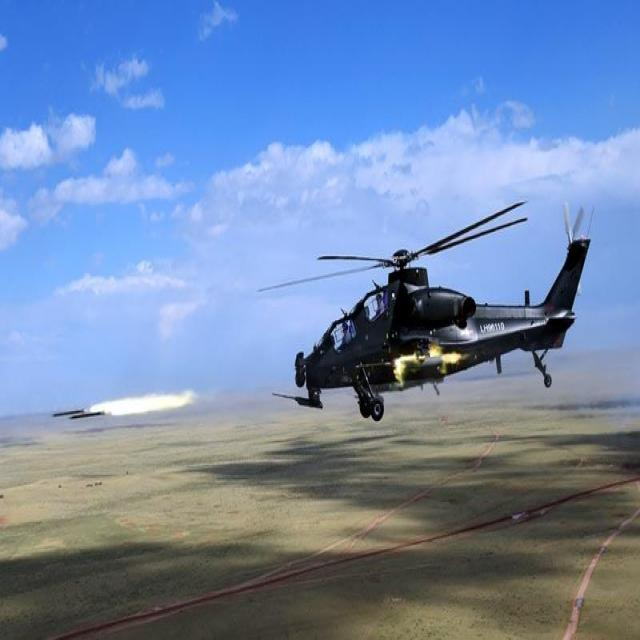MIL_HELO: (256, 194, 594, 426)
